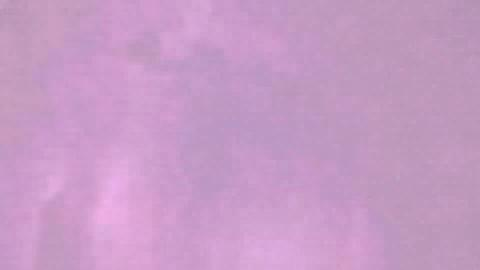tomato: (155, 117, 330, 268), (1, 118, 155, 268), (330, 122, 477, 268)
